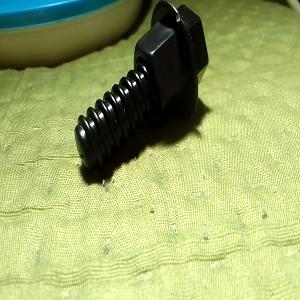parafuso: (74, 0, 210, 176)
